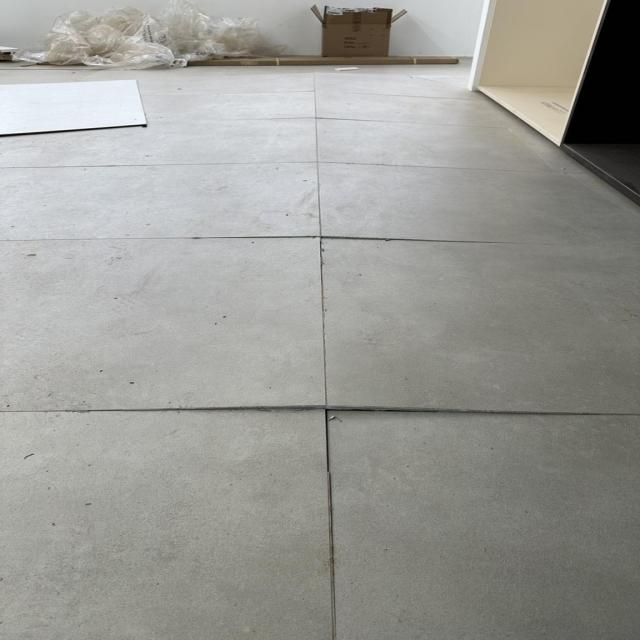tile: (0, 238, 639, 414)
